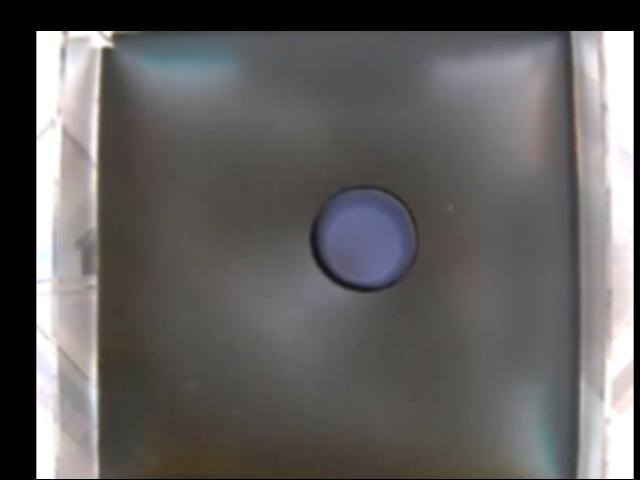Cup: (307, 185, 418, 292)
